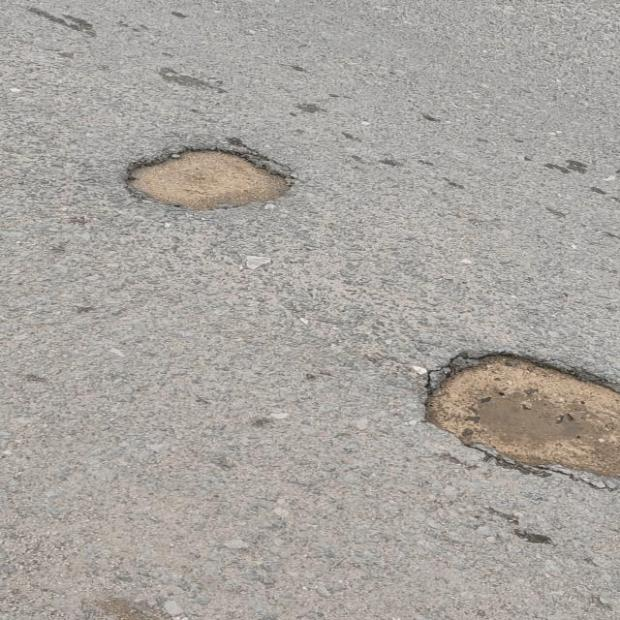lubang: (425, 355, 619, 480), (127, 147, 292, 210)
